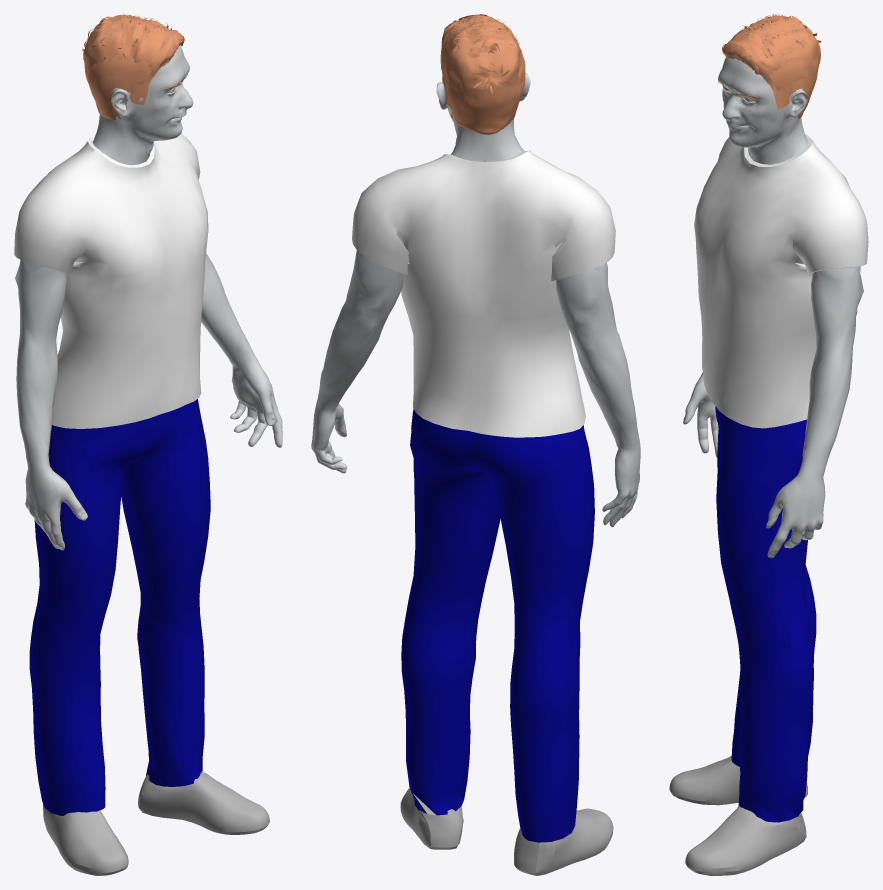
The model's file is human.dae.
The picture shows the model from 3 angles, left to right: view 1: azimuth 30°, elevation 25°; view 2: azimuth 150°, elevation 25°; view 3: azimuth 270°, elevation 25°; orthographic projection. The views are drawn at different scales.
Parts seen in each view (by area): view 1: group_5_006, group_5_001, group_4_002, group_4, group_6, group_4_001, group_1, group_1_001; view 2: group_5_006, group_5_001, group_4_002, group_4_001, group_6, group_1_001, group_4, group_1; view 3: group_5_001, group_5_006, group_4_001, group_4, group_1, group_6, group_1_001, group_4_002, group_6_050.
Part boxes in pixels (box(x1,y1,x2,y2)): group_5_006: box(29, 399, 210, 815); group_5_001: box(14, 133, 208, 428); group_4_002: box(15, 259, 87, 550); group_4: box(92, 46, 193, 165); group_6: box(83, 15, 181, 119); group_4_001: box(201, 253, 282, 447); group_1: box(138, 772, 269, 834); group_1_001: box(43, 804, 128, 875); group_5_006: box(401, 409, 594, 842); group_5_001: box(352, 150, 615, 437); group_4_002: box(556, 262, 640, 527); group_4_001: box(311, 233, 404, 473); group_6: box(441, 15, 525, 134); group_1_001: box(514, 808, 613, 875); group_4: box(436, 72, 530, 161); group_1: box(400, 788, 463, 848); group_5_001: box(694, 134, 868, 428); group_5_006: box(715, 406, 816, 822); group_4_001: box(766, 266, 863, 558); group_4: box(718, 58, 808, 164); group_1: box(685, 806, 806, 875); group_6: box(725, 16, 820, 118); group_1_001: box(669, 756, 807, 804); group_4_002: box(683, 372, 718, 457); group_6_050: box(769, 55, 818, 90).
Bounding box in the file's own units: 0.661 × 0.402 × 1.8.
